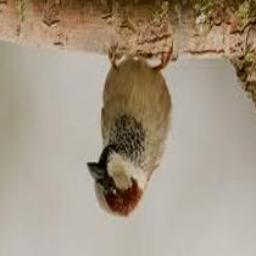Sparrow: (87, 40, 177, 217)
